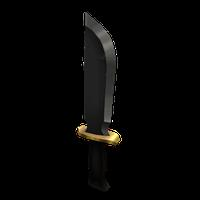knife: (78, 8, 122, 196)
